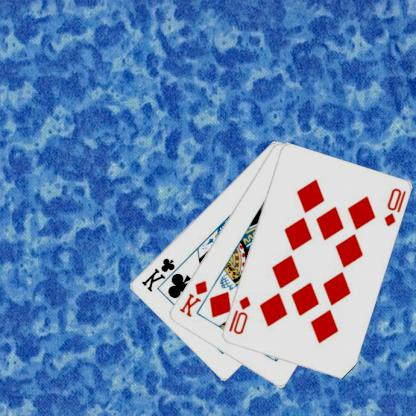10D: (383, 185, 409, 228), (228, 294, 254, 336)
KC: (140, 255, 186, 294)
KD: (178, 277, 210, 319)
